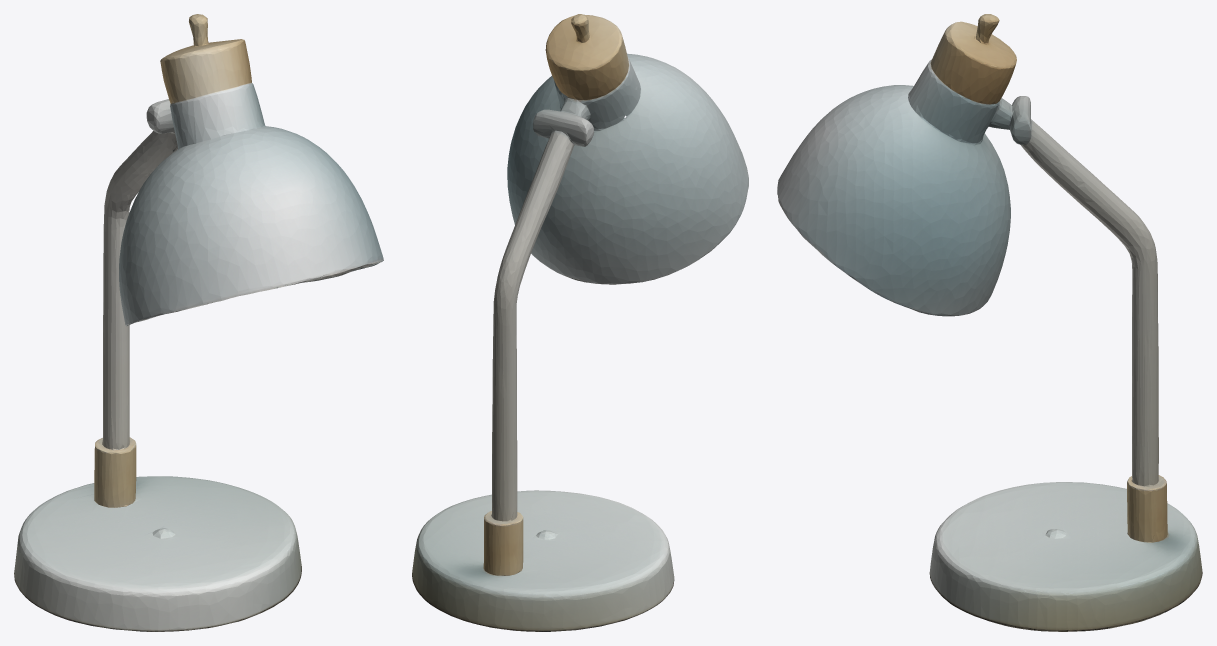
File: lamp.glb
The picture shows the model from 3 angles, left to right: view 1: azimuth 30°, elevation 25°; view 2: azimuth 150°, elevation 25°; view 3: azimuth 270°, elevation 25°; orthographic projection. The views are drawn at different scales.
Parts seen in each view (by area): view 1: world; view 2: world; view 3: world.
Boxes of the visible parts, <box> form: world: <box>14,14,383,631</box>; world: <box>412,14,748,631</box>; world: <box>777,14,1202,631</box>.
Size of the model in its own units: 0.4502 by 0.9987 by 0.6892.
1 material, 1 textured.
